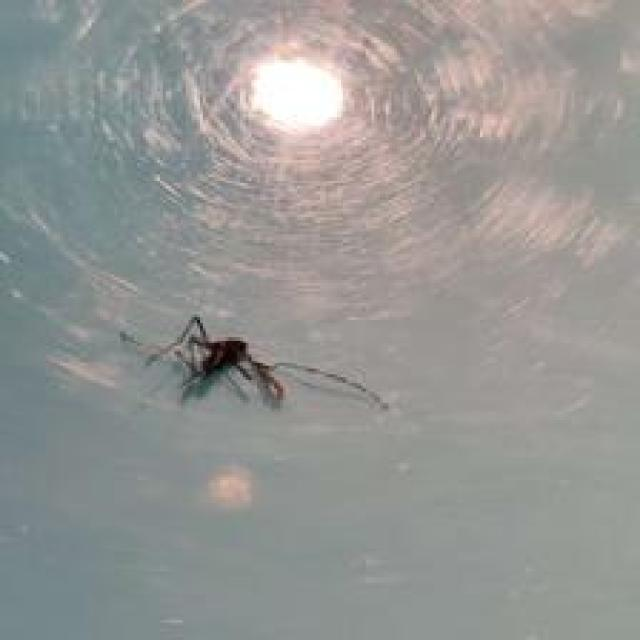Aedes albopictus: (119, 314, 390, 414)
